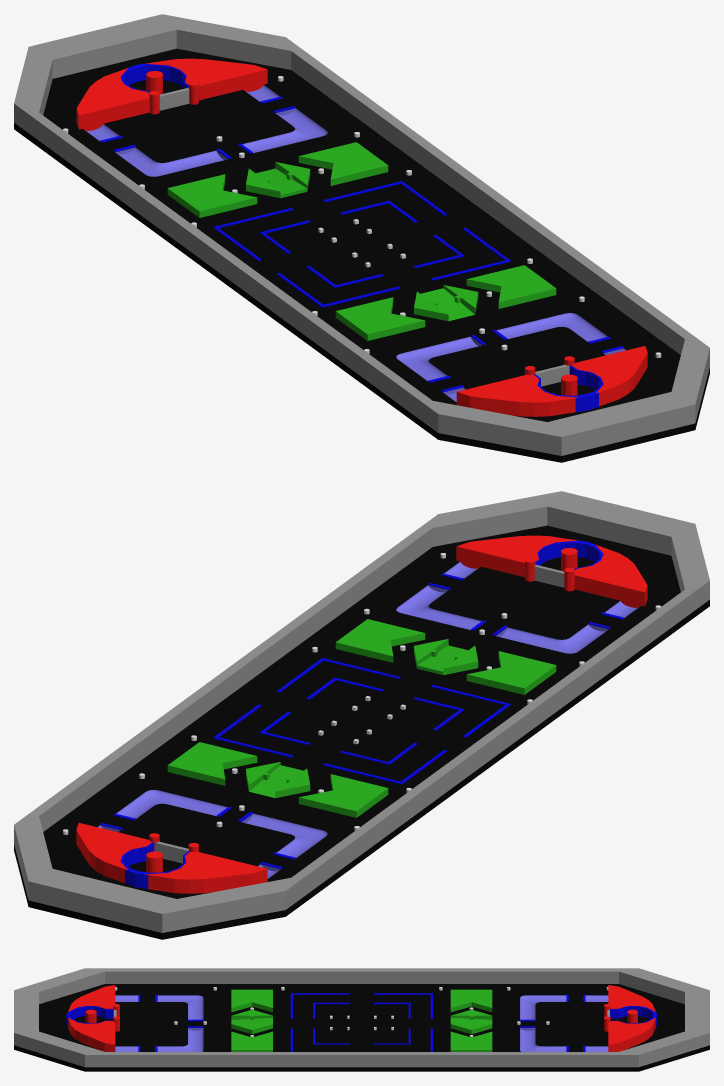
Rendered from Blockout12.FBX.
The picture shows the model from 3 angles, top to bottom: view 1: azimuth 30°, elevation 25°; view 2: azimuth 150°, elevation 25°; view 3: azimuth 270°, elevation 25°; orthographic projection. The views are drawn at different scales.
Visible parts, largest first — view 1: Box140, Object111, Box130, Box125, Box129, Tube006, Box124, Cylinder069; view 2: Box140, Object111, Box130, Box125, Box129, Tube006, Box124, Cylinder069, Cylinder070; view 3: Box140, Object111, Box130, Box125, Box129, Tube006, Cylinder069, Cylinder070.
Part boxes in pixels (x1=…): Box140: x1=14, y1=48, x2=709, y2=462; Object111: x1=14, y1=14, x2=709, y2=455; Box130: x1=167, y1=142, x2=556, y2=340; Box125: x1=76, y1=58, x2=647, y2=416; Box129: x1=213, y1=181, x2=510, y2=307; Tube006: x1=120, y1=63, x2=603, y2=412; Box124: x1=159, y1=87, x2=569, y2=386; Cylinder069: x1=146, y1=71, x2=577, y2=395; Box140: x1=14, y1=525, x2=709, y2=939; Object111: x1=14, y1=491, x2=709, y2=932; Box130: x1=167, y1=619, x2=556, y2=817; Box125: x1=76, y1=535, x2=647, y2=893; Box129: x1=213, y1=658, x2=510, y2=784; Tube006: x1=120, y1=540, x2=603, y2=889; Box124: x1=154, y1=564, x2=564, y2=863; Cylinder069: x1=146, y1=548, x2=577, y2=872; Cylinder070: x1=149, y1=558, x2=574, y2=851; Box140: x1=14, y1=984, x2=709, y2=1071; Object111: x1=14, y1=968, x2=709, y2=1067; Box130: x1=231, y1=989, x2=492, y2=1051; Box125: x1=68, y1=985, x2=655, y2=1051; Box129: x1=290, y1=993, x2=432, y2=1051; Tube006: x1=66, y1=1006, x2=657, y2=1027; Cylinder069: x1=85, y1=1009, x2=637, y2=1023; Cylinder070: x1=113, y1=1004, x2=610, y2=1031.
Bounding box in the file's own units: 38593 × 3503 × 131123.
